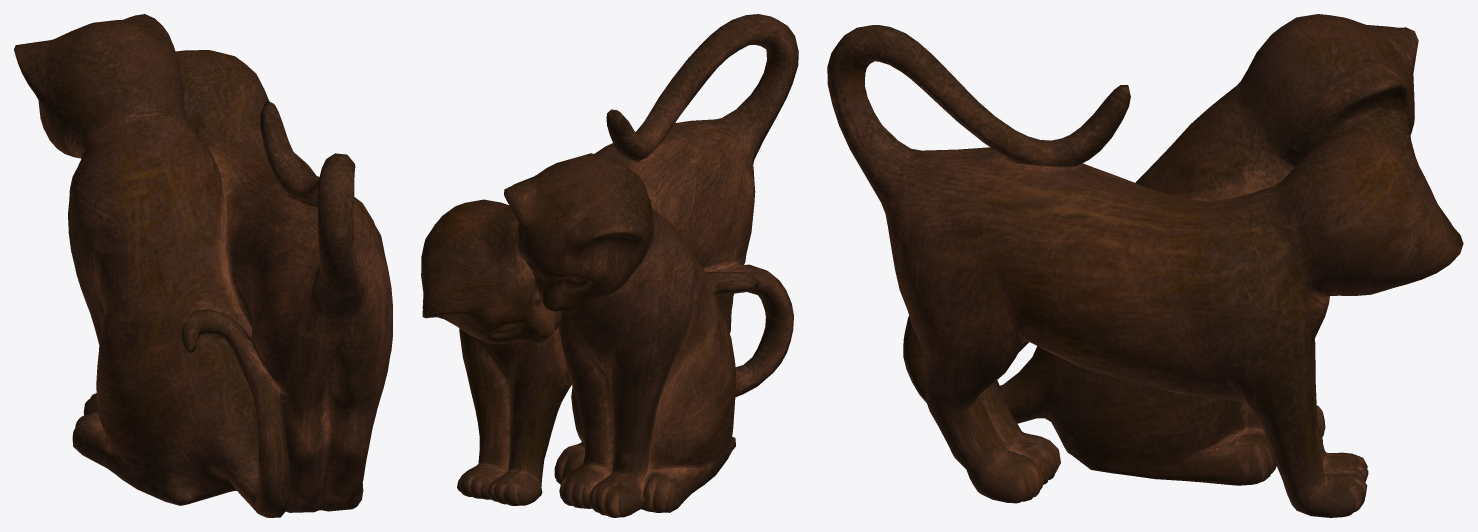
Rendered from Cats.obj.
3 renders of one model, left to right at view 1: azimuth 30°, elevation 25°; view 2: azimuth 150°, elevation 25°; view 3: azimuth 270°, elevation 25°, orthographic. The views are drawn at different scales.
Visible parts, largest first — view 1: Cats; view 2: Cats; view 3: Cats.
Boxes of the visible parts, x1,y1,x2,y2 form: Cats: (14,14,392,517); Cats: (421,14,798,517); Cats: (827,14,1463,517).
Bounding box in the file's own units: 139 × 218 × 288.
Materials: 1 (1 with a texture image).
